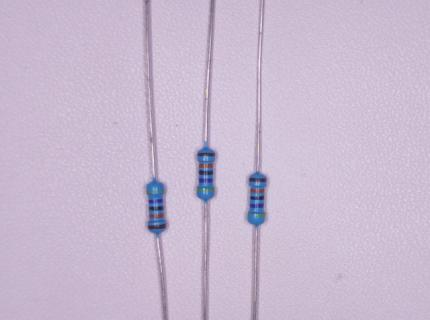Black band: (199, 170, 213, 175), (250, 195, 264, 200), (149, 206, 164, 210)
Brown band: (148, 223, 166, 230), (249, 177, 267, 183), (197, 152, 215, 157)
Orange band: (149, 213, 164, 218), (199, 163, 214, 168), (250, 189, 265, 193)
Violet band: (198, 178, 213, 183), (250, 203, 264, 208), (148, 199, 163, 203)
Yellow band: (146, 190, 165, 194), (247, 213, 266, 217), (197, 188, 214, 192)
